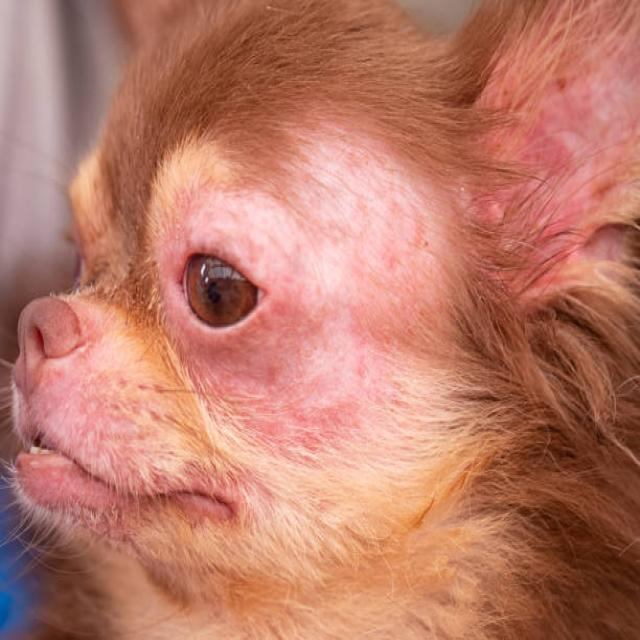mange: (265, 100, 474, 564)
